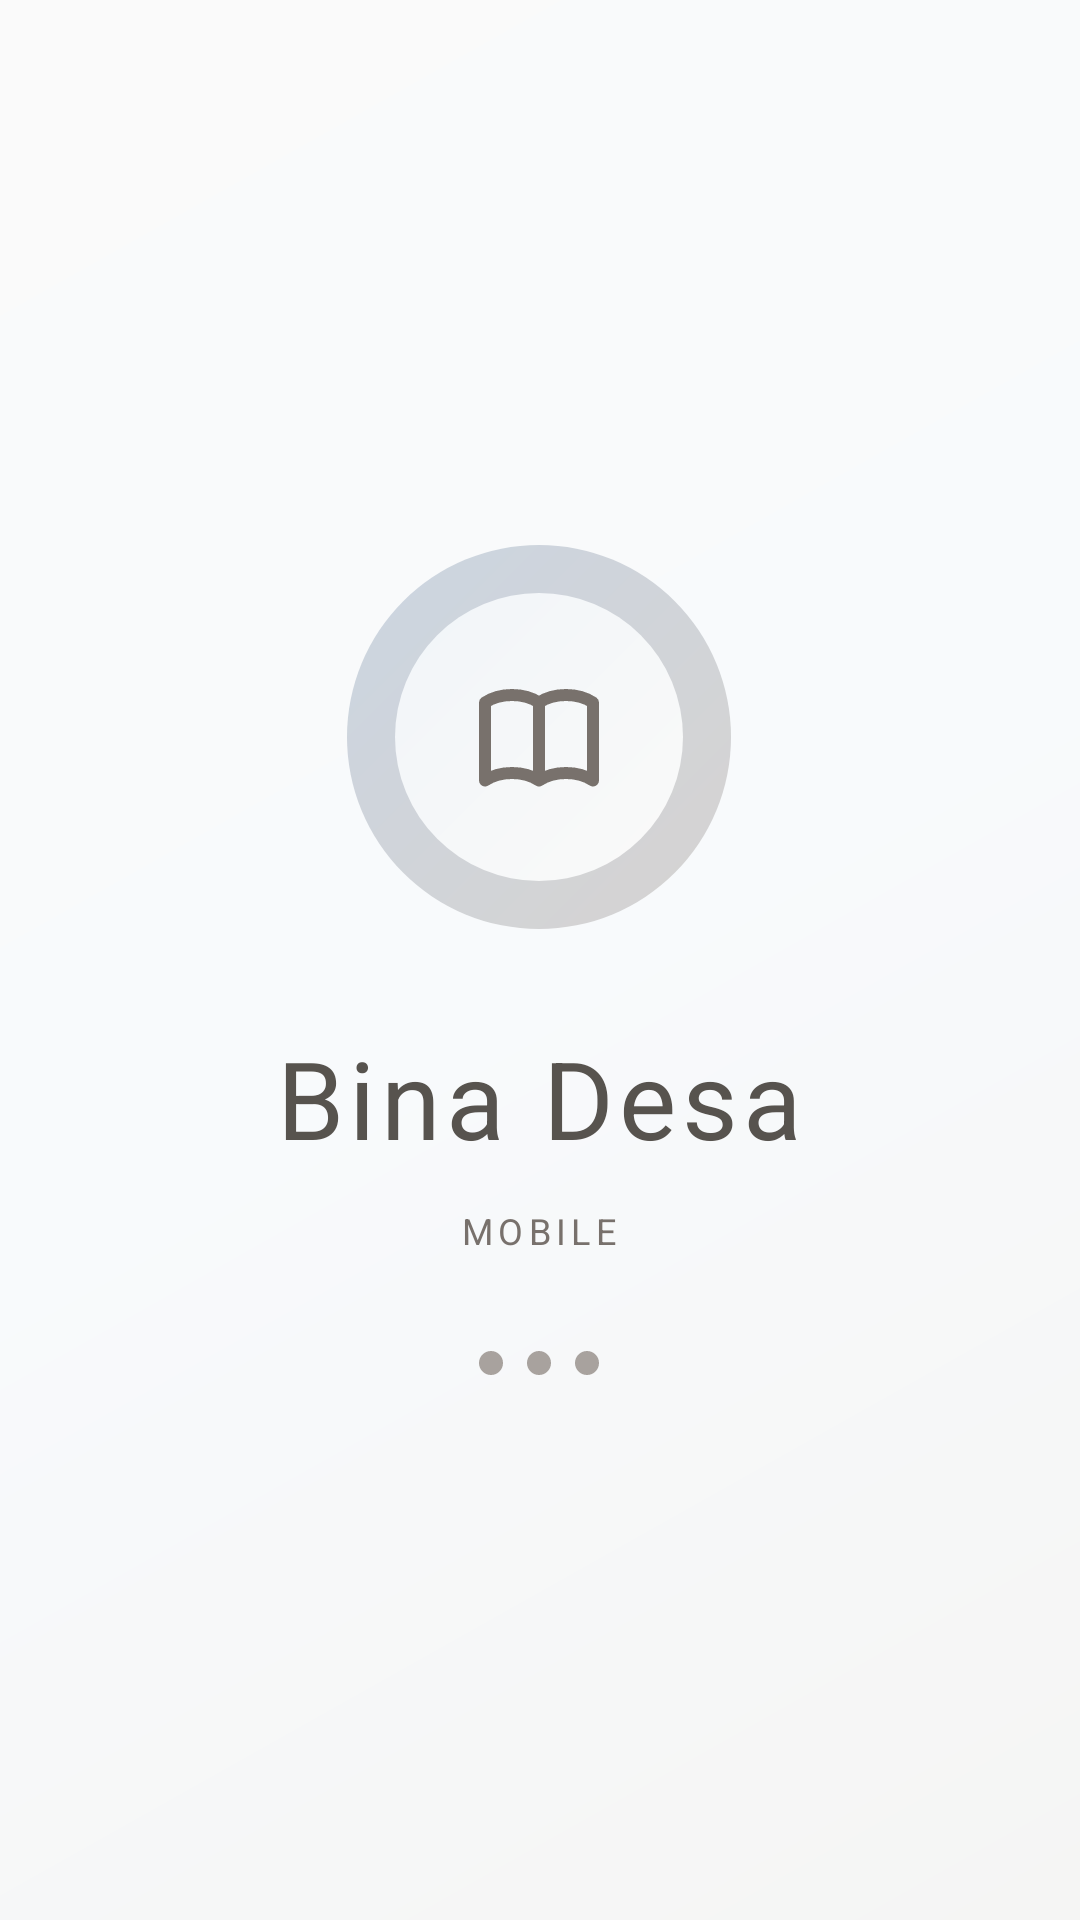

Where to tap for icons on this 1080px x 1920px app screen, as (x=x, y=y):
book: (x=539, y=738)
